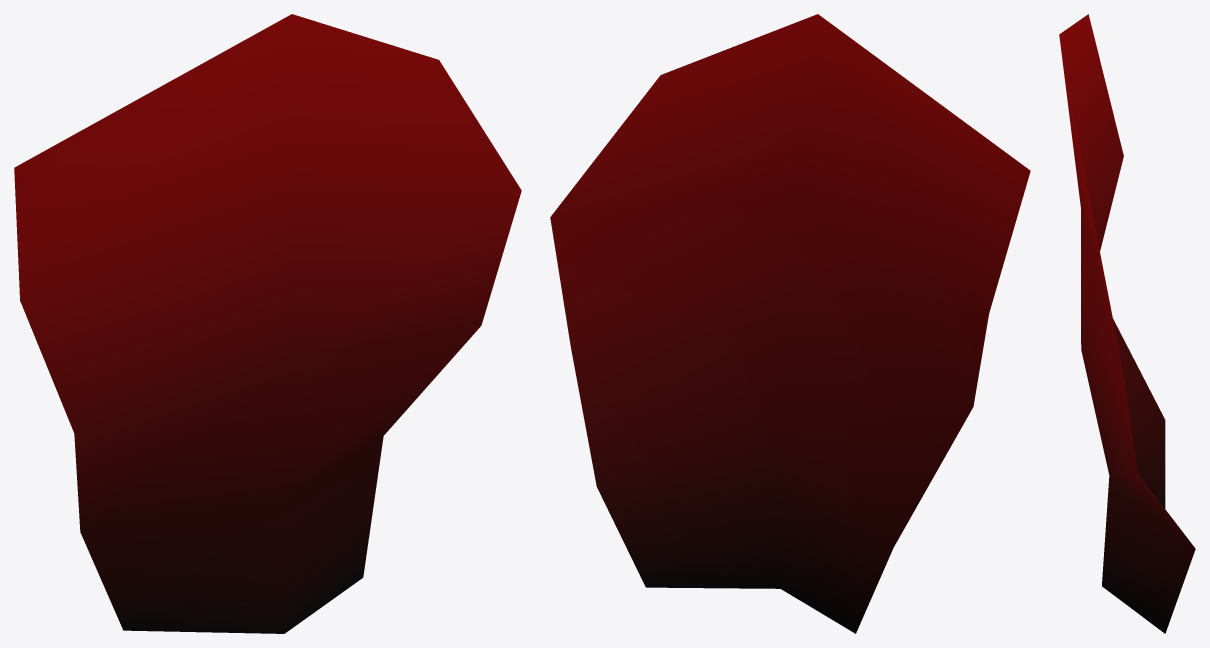
3 renders of one model, left to right at view 1: azimuth 30°, elevation 25°; view 2: azimuth 150°, elevation 25°; view 3: azimuth 270°, elevation 25°, orthographic. The views are drawn at different scales.
Visible parts, largest first — view 1: model2; view 2: model2; view 3: model2.
Part boxes in pixels (x1=…): model2: x1=14, y1=14, x2=521, y2=633; model2: x1=550, y1=14, x2=1030, y2=633; model2: x1=1059, y1=14, x2=1195, y2=633.
Bounding box in the file's own units: 0.2018 × 0.2346 × 0.0533.
